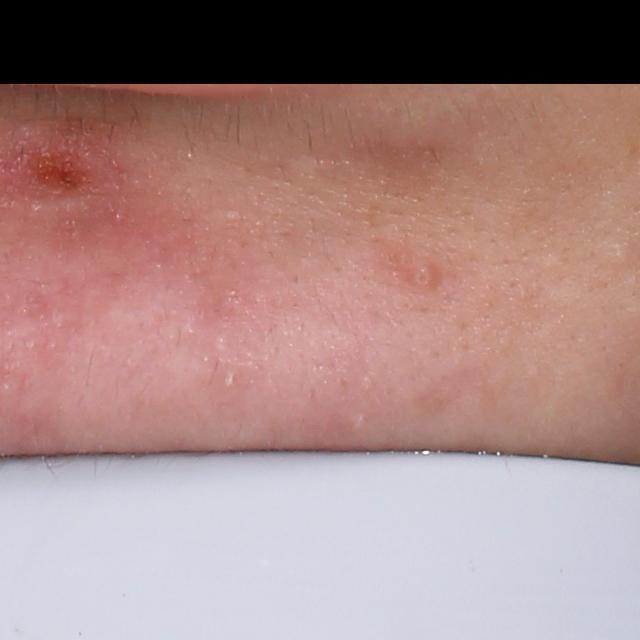pustule: (408, 263, 435, 289)
